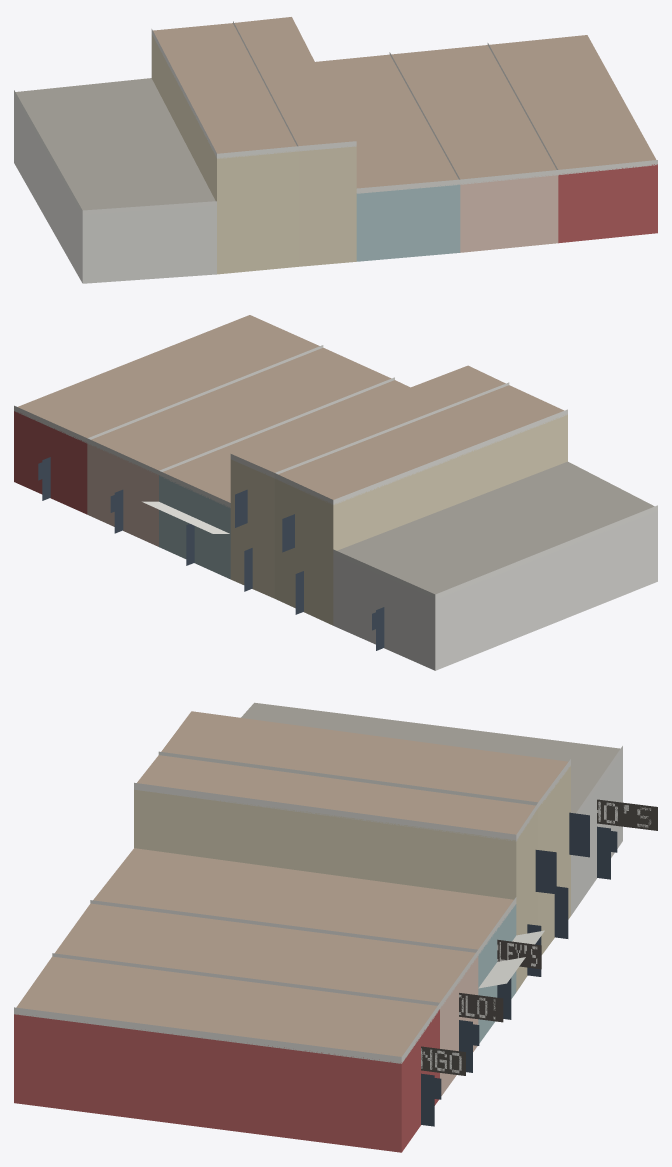
The model's file is snmain_bars.glb.
The picture shows the model from 3 angles, top to bottom: view 1: azimuth 30°, elevation 25°; view 2: azimuth 150°, elevation 25°; view 3: azimuth 270°, elevation 25°; orthographic projection. The views are drawn at different scales.
Visible parts, largest first — view 1: snmain_bars_lod0; view 2: snmain_bars_lod0; view 3: snmain_bars_lod0.
Part boxes in pixels (left/top/right/bottom): snmain_bars_lod0: left=14, top=17, right=657, bottom=283; snmain_bars_lod0: left=14, top=315, right=657, bottom=670; snmain_bars_lod0: left=14, top=702, right=657, bottom=1152.
Size of what is drawn, in the model's own units: 31 by 6.37 by 23.58.
